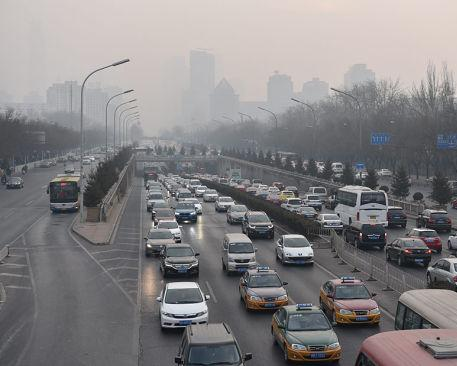bus: (353, 326, 457, 364), (393, 286, 457, 341), (331, 185, 388, 230), (47, 176, 82, 213), (143, 172, 158, 187)
car: (271, 302, 340, 365), (173, 321, 252, 366), (317, 274, 380, 326), (155, 280, 211, 332), (237, 264, 289, 314), (219, 232, 258, 277), (159, 243, 200, 279), (385, 236, 431, 266), (274, 233, 314, 266), (343, 220, 387, 250), (404, 227, 443, 253), (241, 211, 275, 240), (426, 256, 457, 287), (143, 228, 175, 258), (415, 208, 453, 233), (155, 220, 184, 243), (382, 204, 407, 230), (175, 201, 199, 224), (226, 204, 250, 226), (314, 213, 343, 231), (145, 193, 167, 213), (154, 208, 176, 227), (295, 206, 319, 223), (306, 186, 328, 204), (215, 196, 236, 214), (302, 194, 323, 212), (280, 197, 303, 213), (151, 203, 171, 221), (183, 198, 203, 215), (176, 190, 194, 205), (277, 190, 295, 205), (445, 230, 457, 250), (6, 177, 24, 189), (203, 189, 218, 203), (284, 185, 300, 198), (189, 179, 202, 193), (194, 186, 209, 197), (149, 185, 164, 196), (377, 168, 392, 179), (330, 162, 343, 173), (64, 164, 76, 174), (355, 172, 370, 180), (330, 173, 345, 180), (81, 157, 92, 166), (246, 187, 258, 195)
